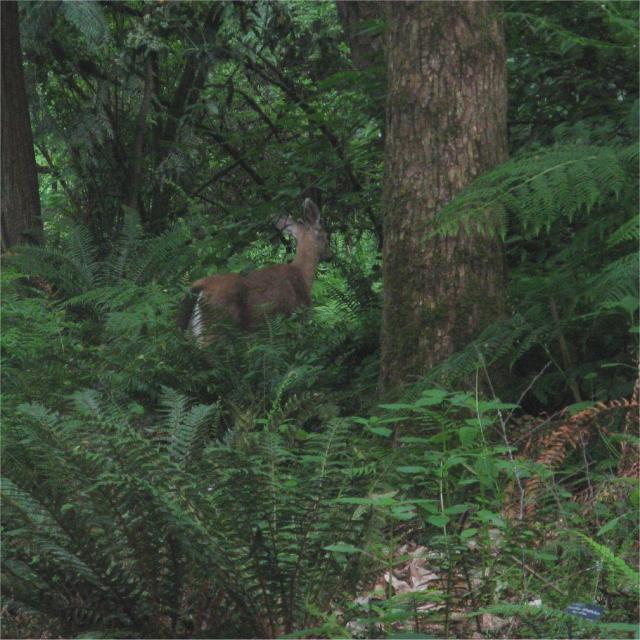Deer: (176, 206, 347, 345)
